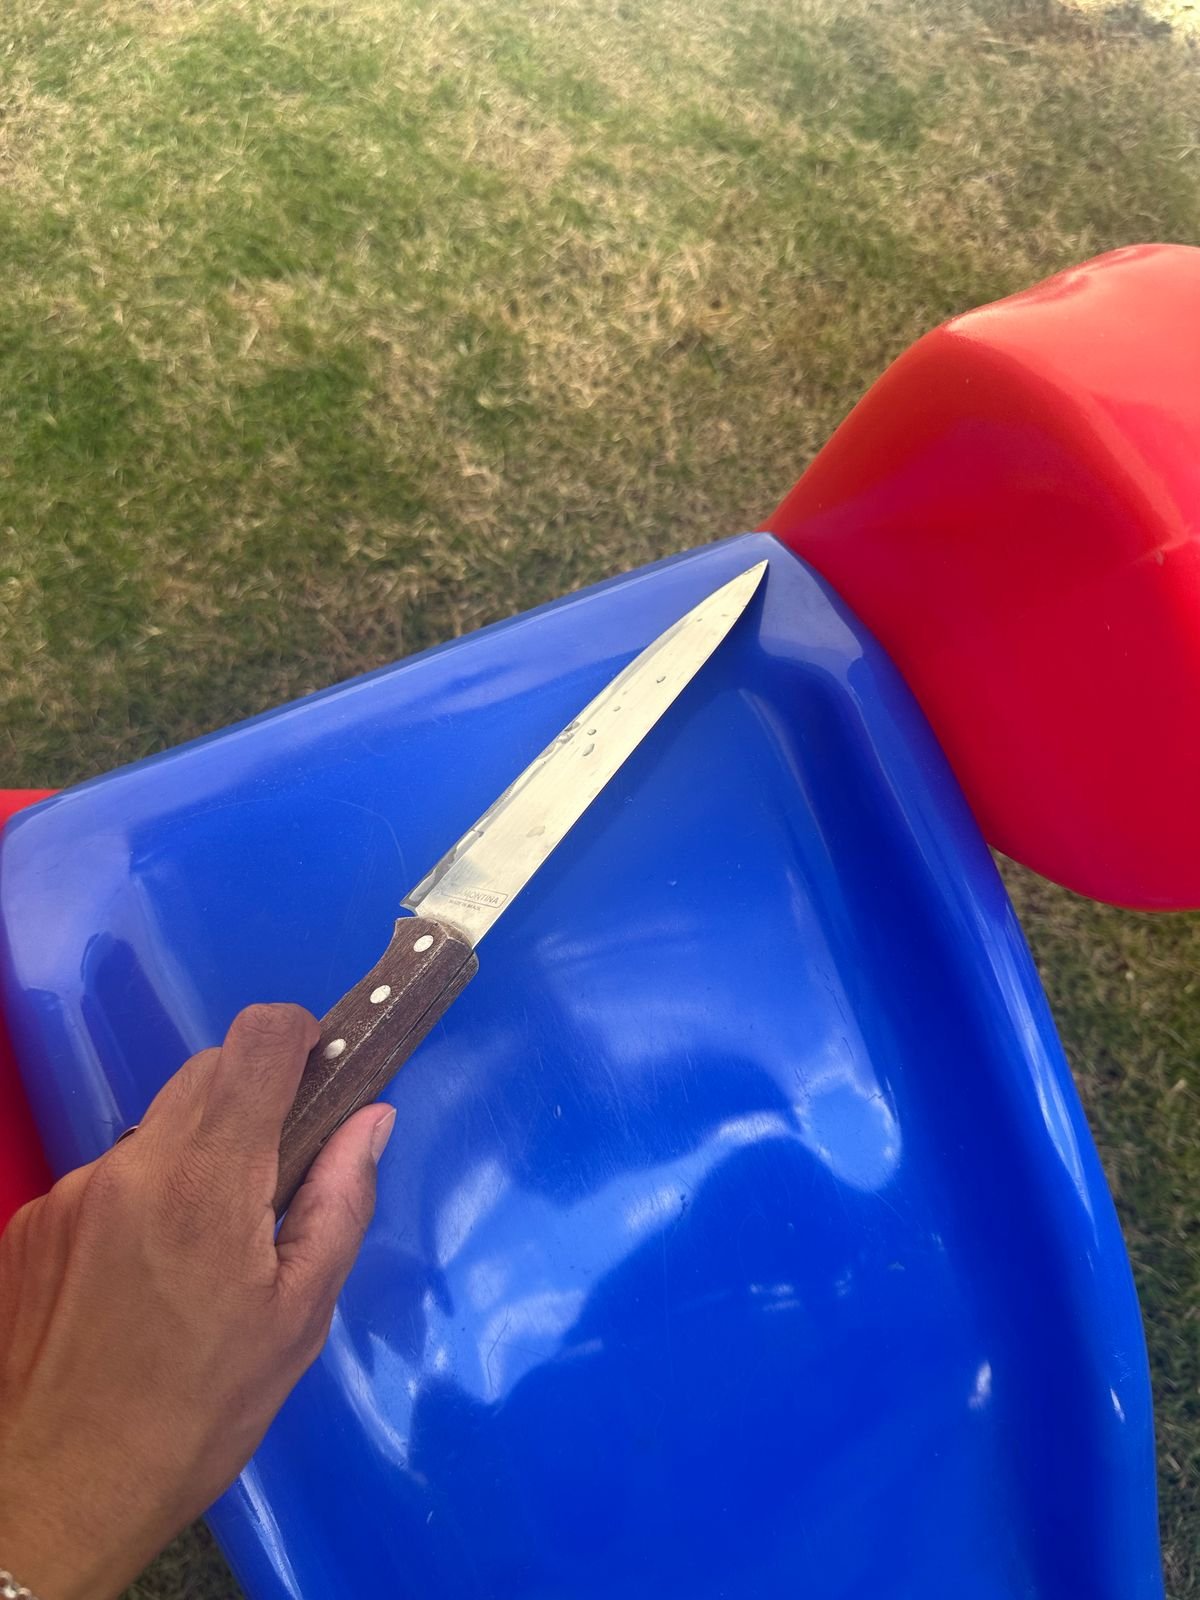faca: (344, 546, 785, 1075)
